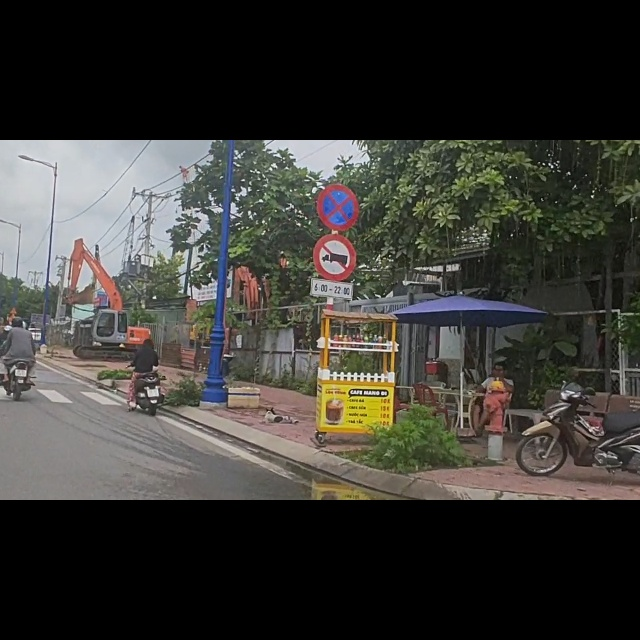bien_cam: (315, 76, 359, 161), (313, 167, 357, 252)
